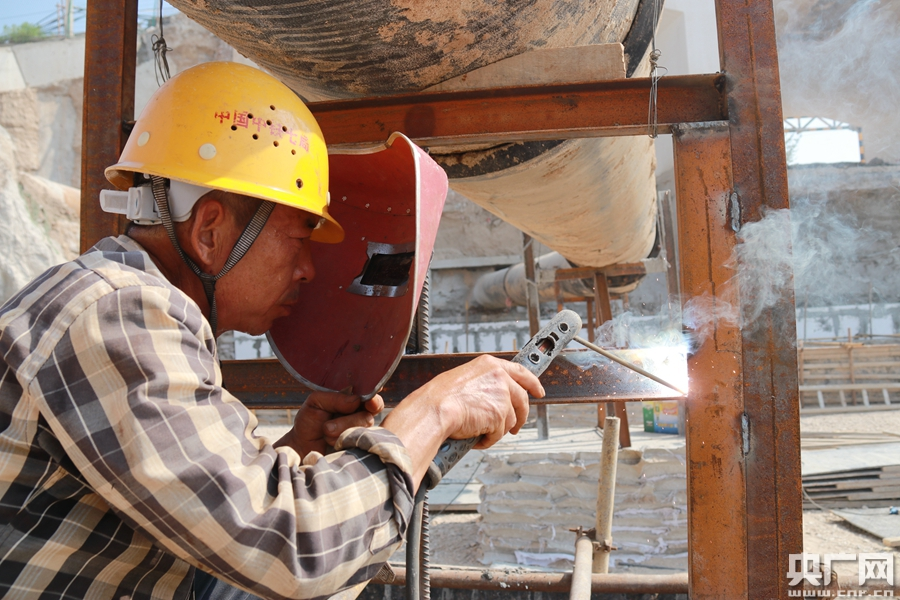safetyhat: (15, 51, 544, 600)
